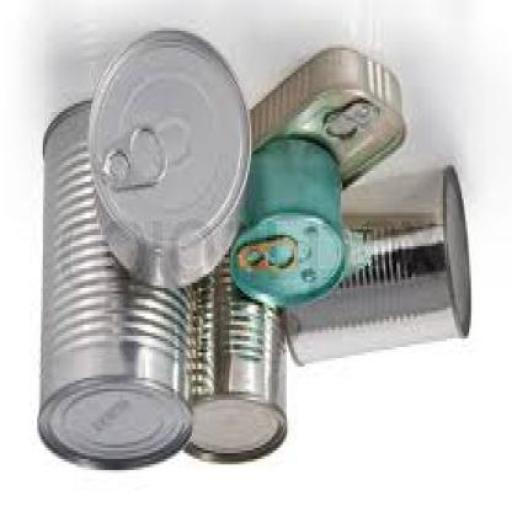metal: (37, 104, 192, 472), (87, 33, 250, 294), (281, 165, 470, 369), (183, 243, 285, 467), (250, 48, 404, 192), (229, 137, 342, 311)
